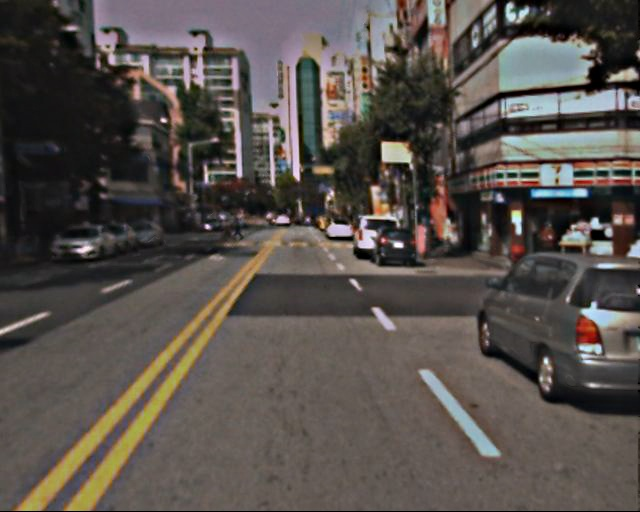person: (536, 215, 562, 276), (233, 211, 247, 244)
